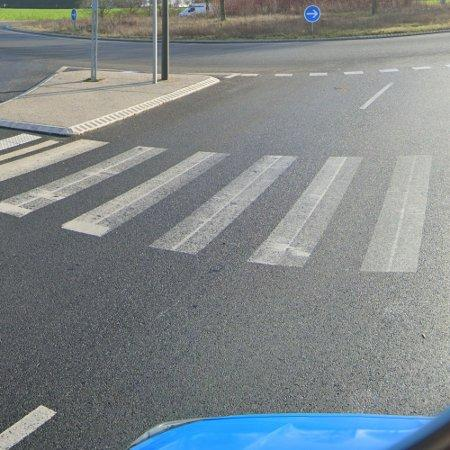crosswalks: (0, 130, 450, 276)
